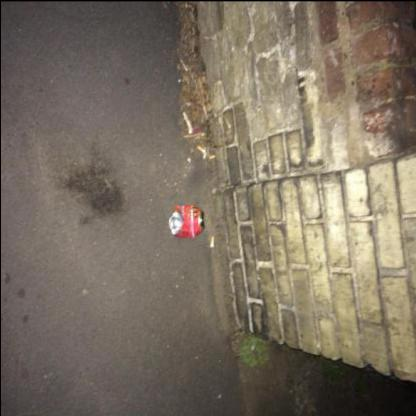Can: (168, 204, 203, 235)
Cigarette: (196, 144, 204, 152), (209, 236, 212, 245)
